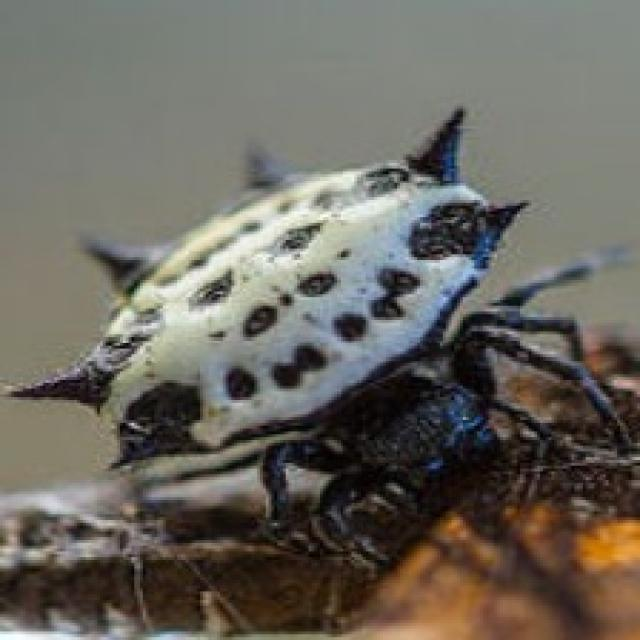Non venomous spider: (16, 23, 620, 635)
